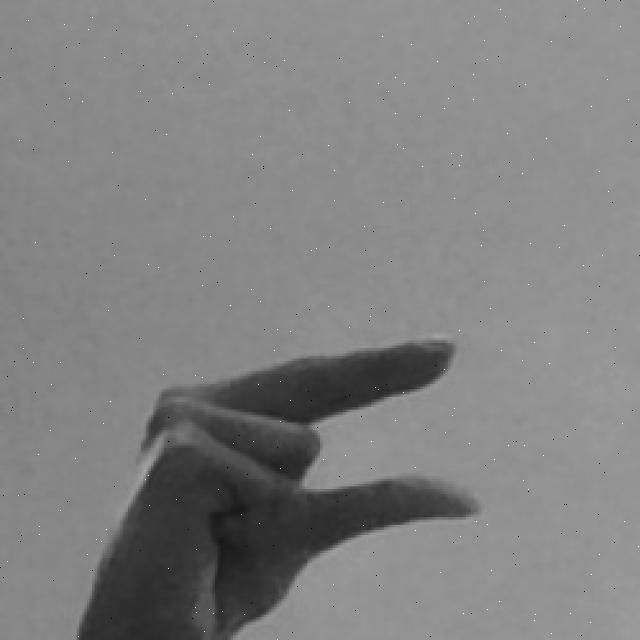G: (79, 330, 484, 640)
